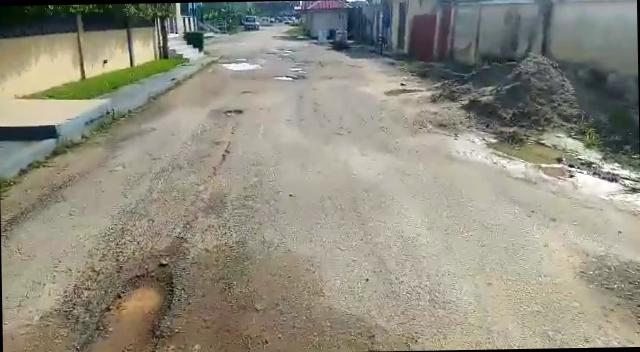pothole: (70, 273, 175, 352), (216, 60, 263, 69), (272, 74, 307, 80), (220, 108, 242, 116)
